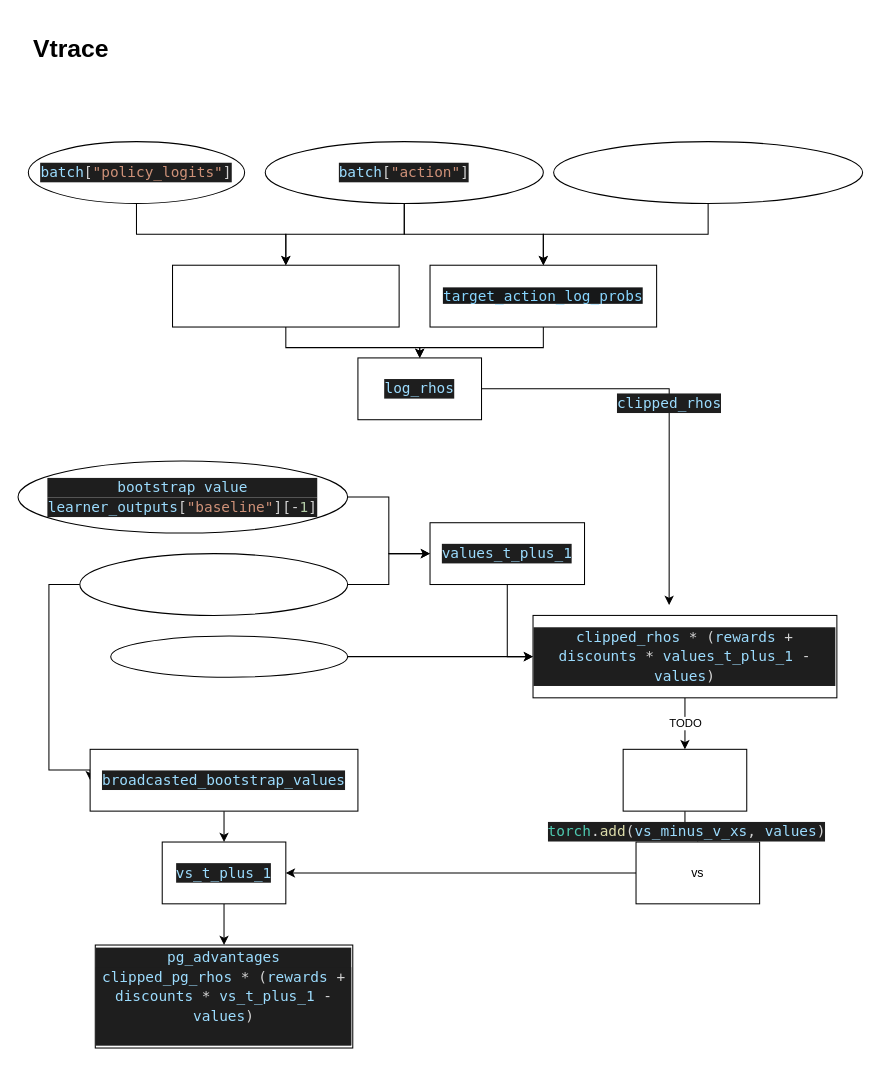
Some shapes in this 881 by 1066 pixel diagram are drawn without their labels. Here are the shapes that lost their labels. From the top down, the box of each, then its label:
(553, 141, 863, 203): learner_outputs [ "policy_logits" ]
(171, 264, 399, 327): behavior_action_log_probs
(79, 553, 348, 615): learner_outputs [ "baseline" ]
(110, 635, 348, 677): batch [ "reward" ]
(622, 748, 747, 811): vs_minus_v_xs
